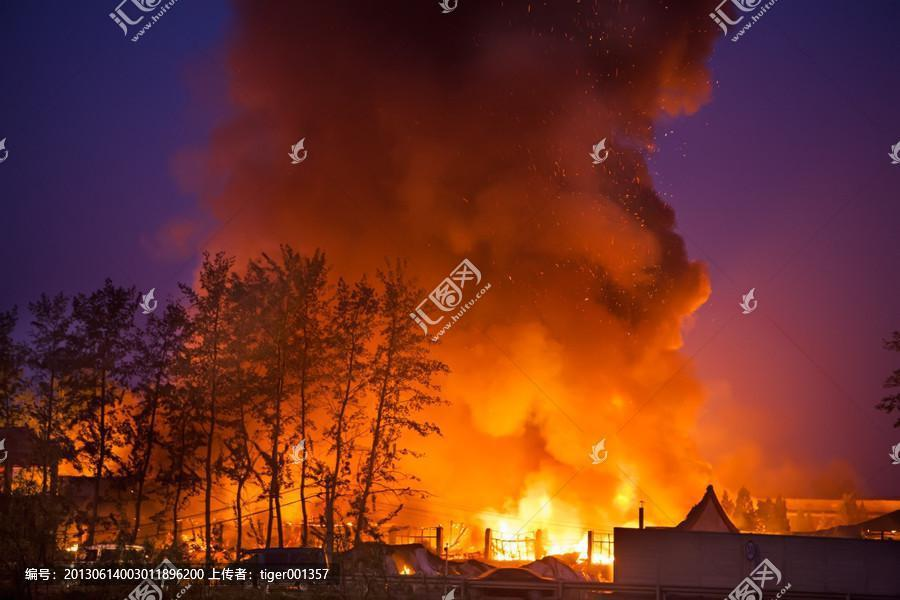fire: (441, 429, 765, 565)
